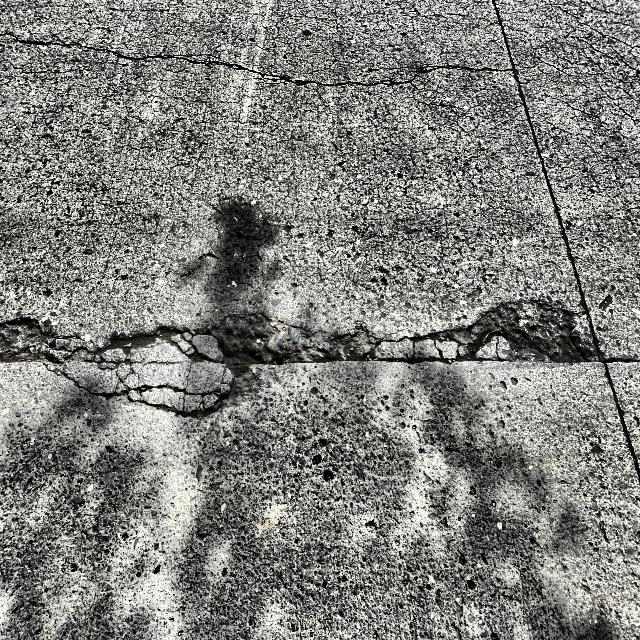cracks: (0, 305, 596, 394)
